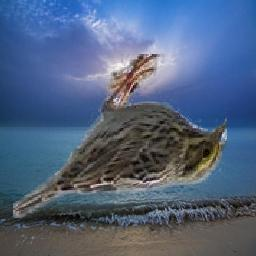Sparrow: (13, 54, 227, 218)
